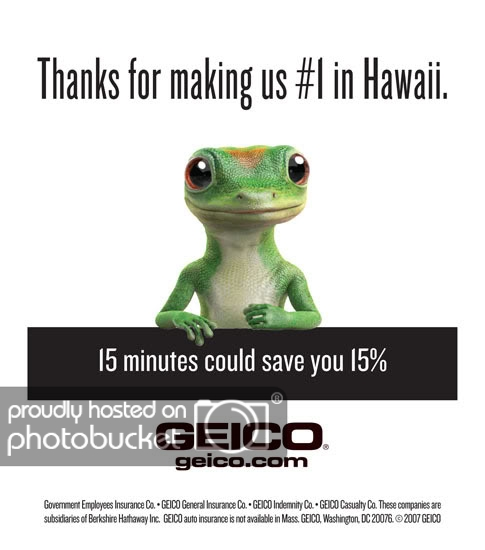Geico: (154, 419, 333, 474)
